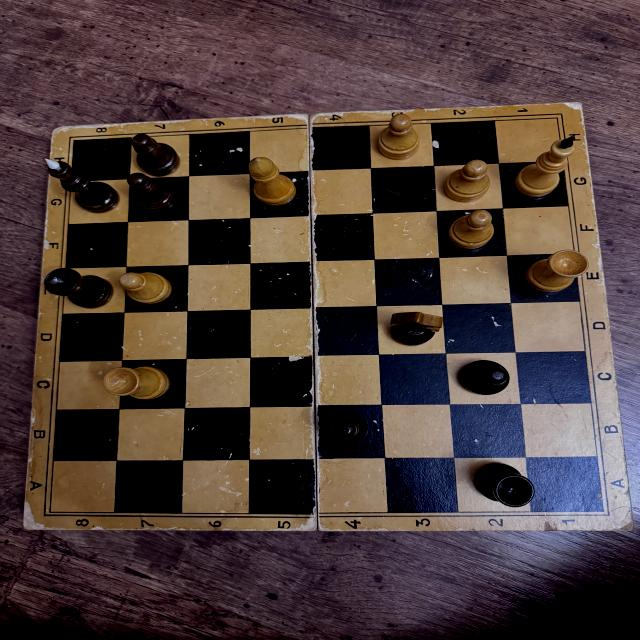black-king: (40, 157, 120, 213)
black-knight: (386, 308, 445, 347)
black-pawn: (130, 132, 182, 176), (126, 172, 179, 212), (458, 357, 510, 397), (320, 408, 368, 446)
black-rook: (41, 267, 114, 309), (472, 462, 535, 508)
white-bishop: (247, 155, 298, 208)
white-king: (512, 134, 576, 200)
white-pawn: (375, 113, 422, 159), (443, 160, 492, 202), (446, 209, 496, 250), (118, 271, 176, 305)
white-rook: (525, 250, 588, 293), (104, 368, 169, 400)
